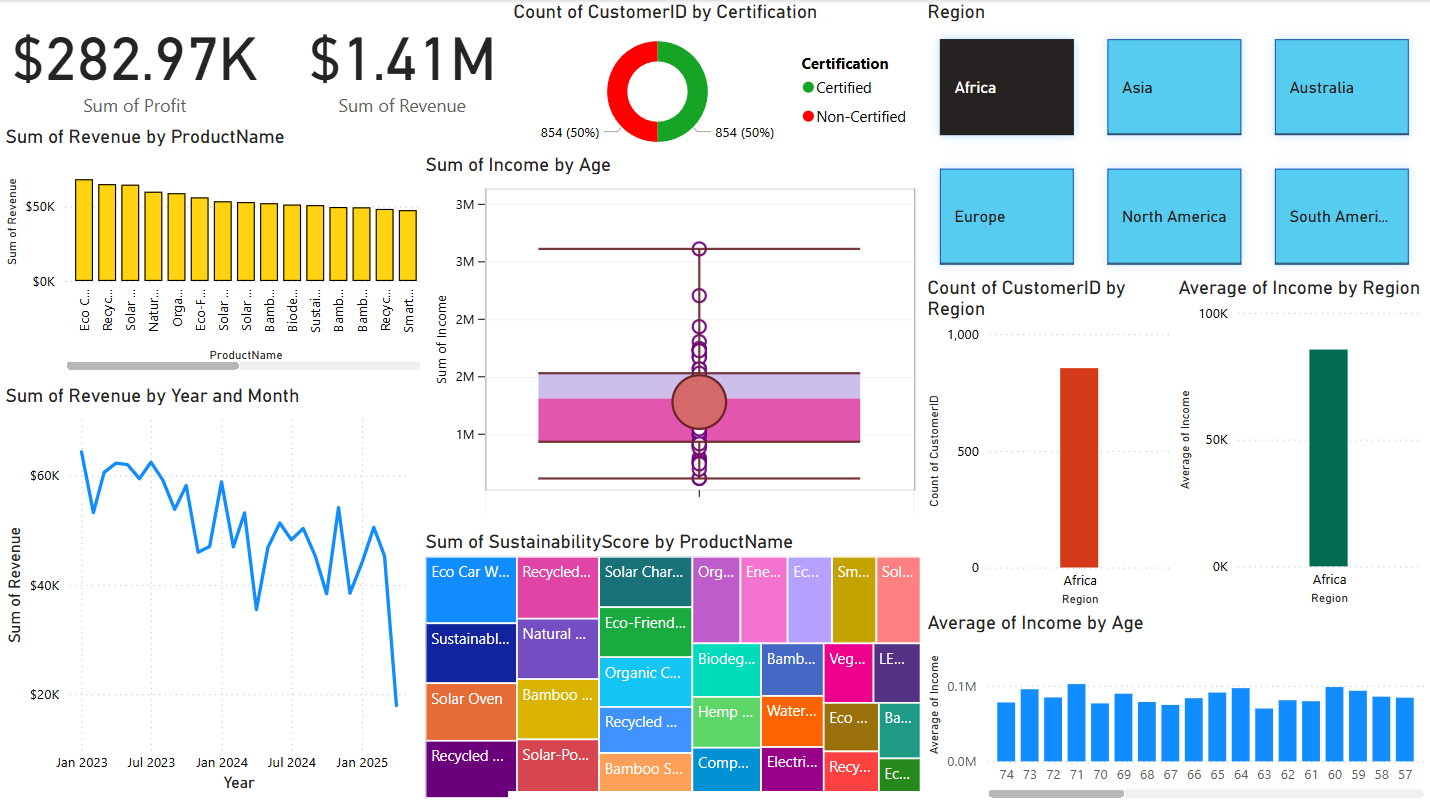

The page's visual inventory and layout, read from the dashboard file:
{"tool":"powerbi","page":{"name":"Page 1","canvas":[1280,720],"ordinal":0},"visuals":[{"type":"columnChart","fields":{"Category":["Customer_Demographics.Age"],"Y":["Avg(Customer_Demographics.Income)"]},"box":[298.3,0,442.6,280.6],"z":0},{"type":"advancedSlicerVisual","fields":{"Values":["Customer_Demographics.Region"]},"box":[0,465.8,454.9,254.7],"z":1000},{"type":"lineChart","fields":{"Category":["sales.Date.Variation.Date Hierarchy.Year","sales.Date.Variation.Date Hierarchy.Month"],"Y":["Sum(sales.Revenue)"]},"box":[856.7,290.1,423.6,430.4],"z":2000},{"type":"clusteredColumnChart","fields":{"Category":["products.ProductName"],"Y":["Sum(sales.Revenue)"]},"box":[750.5,0,520.3,280.6],"z":3000},{"type":"lineChart","fields":{"Category":["sales.Date.Variation.Date Hierarchy.Year"],"Y":["Sum(sales.Revenue)"]},"box":[454.9,286,392.3,179.8],"z":4000},{"type":"treemap","fields":{"Group":["products.ProductName"],"Values":["Sum(products.SustainabilityScore)"]},"box":[445.4,475.3,411.3,245.2],"z":5000},{"type":"card","fields":{"Values":["Sum(sales.Profit)"]},"box":[2.7,0,283.3,148.5],"z":6000},{"type":"card","fields":{"Values":["Sum(sales.Revenue)"]},"box":[0,166.2,286,148.5],"z":7000},{"type":"qnaVisual","box":[454.9,708.2,410,12.3],"z":8000},{"type":"donutChart","fields":{"Y":["Sum(sales.CO2Emissions)"],"Series":["Suppliers.Certification"]},"box":[0,314.6,454.9,151.2],"z":9000}]}

Visuals, with their boxes in screenshot pixels (x1, y1, x2, y2), scaled from the page's 1280x720 canvas onto the 1430x803 screenshot:
columnChart - Customer_Demographics.Age x Avg(Customer_Demographics.Income): 333:0:828:313
advancedSlicerVisual - Customer_Demographics.Region: 0:519:508:802
lineChart - sales.Date.Variation.Date Hierarchy.Year x sales.Date.Variation.Date Hierarchy.Month: 957:324:1429:802
clusteredColumnChart - products.ProductName x Sum(sales.Revenue): 838:0:1420:313
lineChart - sales.Date.Variation.Date Hierarchy.Year x Sum(sales.Revenue): 508:319:946:519
treemap - products.ProductName x Sum(products.SustainabilityScore): 498:530:957:802
card - Sum(sales.Profit): 3:0:320:166
card - Sum(sales.Revenue): 0:185:320:351
qnaVisual: 508:790:966:802
donutChart - Sum(sales.CO2Emissions) x Suppliers.Certification: 0:351:508:519
